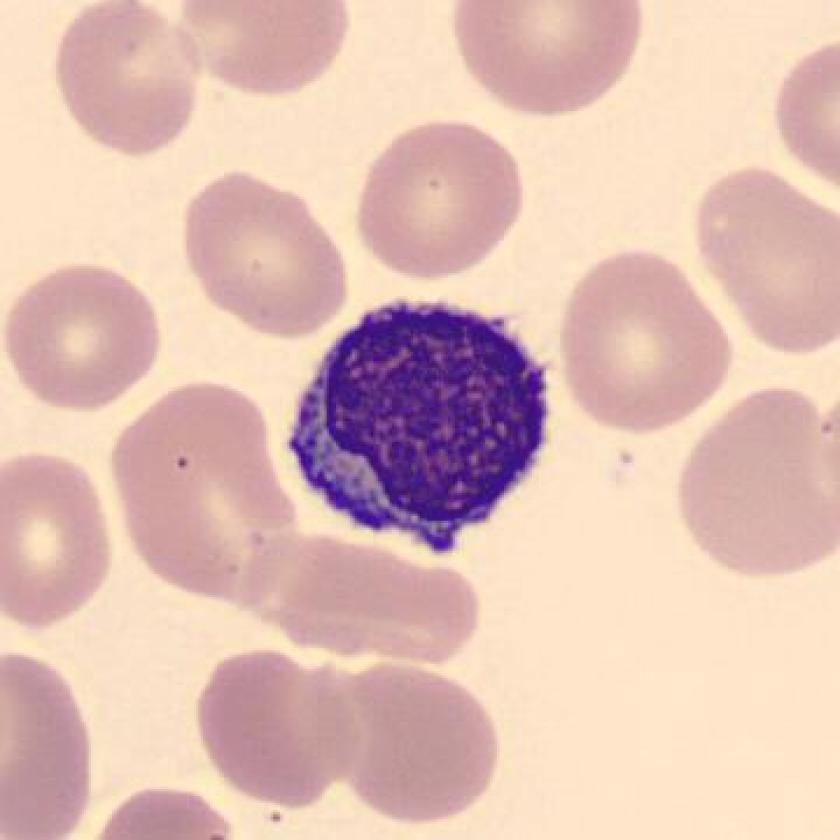lymphocyte: (274, 281, 566, 570)
